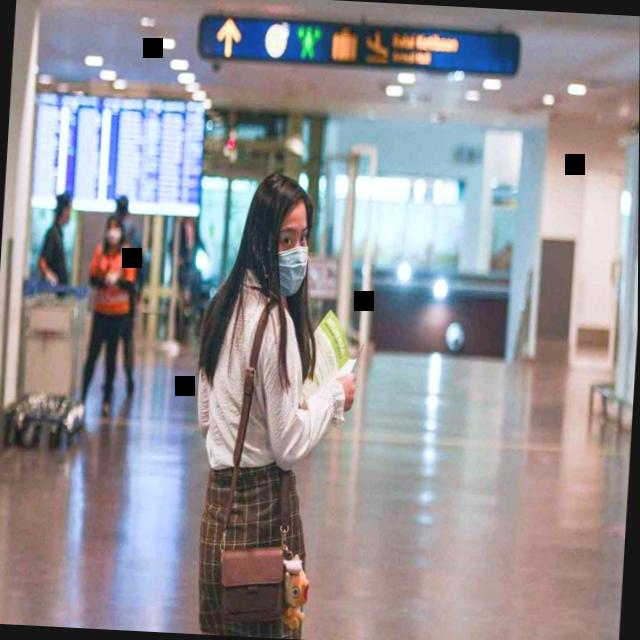Mask: (236, 164, 321, 305), (98, 208, 127, 252)
